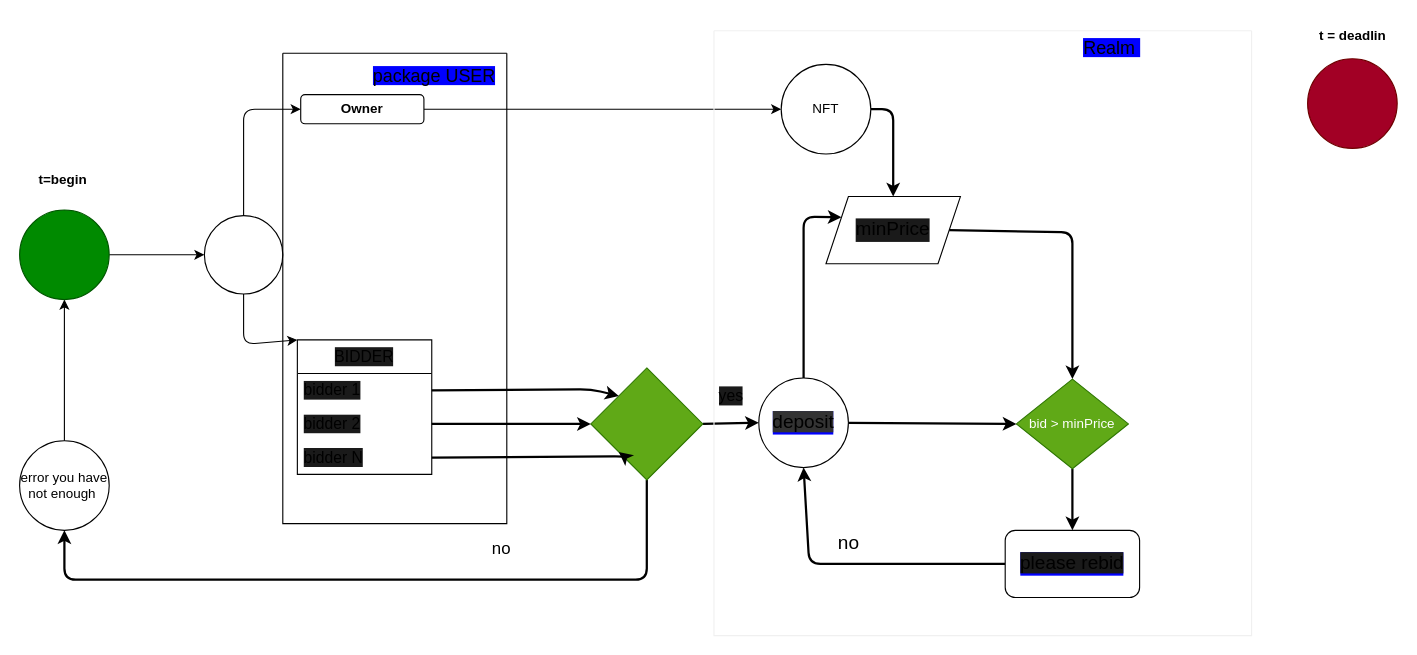
Image size: 1417x655. Some labels were removed from this diagram. Each missing label, with the centre of its shape:
"Auction begin" belongs at point 63,254.
"check Balance" belongs at point 646,423.
"close of Auction" belongs at point 1351,103.
"connect wallet" belongs at point 243,254.
